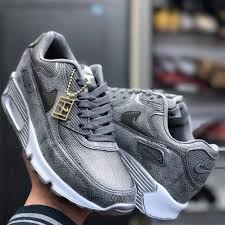nike: (194, 160, 213, 177)
